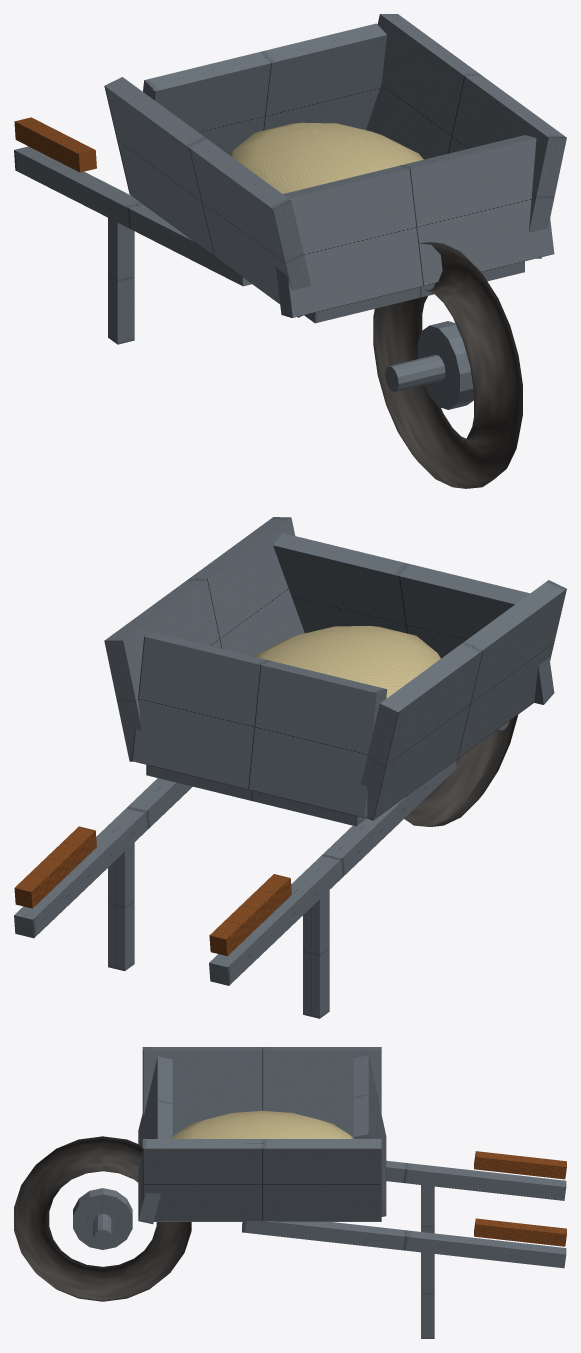
File: farm-and-working-animals-hd-wheelbarrow-39366663__29218.glb
The picture shows the model from 3 angles, top to bottom: view 1: azimuth 30°, elevation 25°; view 2: azimuth 150°, elevation 25°; view 3: azimuth 270°, elevation 25°; orthographic projection. The views are drawn at different scales.
Visible parts, largest first — view 1: barrow-tub/metal, wheelbarrow, barrow-tub/straw; view 2: barrow-tub/metal, wheelbarrow, barrow-tub/straw; view 3: barrow-tub/metal, wheelbarrow, barrow-tub/straw.
Boxes of the visible parts, bbox=[...] form: barrow-tub/metal: bbox=[104, 14, 566, 323]; wheelbarrow: bbox=[14, 117, 522, 488]; barrow-tub/straw: bbox=[230, 122, 423, 193]; barrow-tub/metal: bbox=[104, 517, 566, 826]; wheelbarrow: bbox=[14, 715, 517, 1018]; barrow-tub/straw: bbox=[253, 626, 440, 698]; barrow-tub/metal: bbox=[138, 1047, 386, 1223]; wheelbarrow: bbox=[14, 1136, 566, 1338]; barrow-tub/straw: bbox=[172, 1110, 352, 1138].
Bounding box in the file's own units: 0.7837 × 0.7493 × 1.8.
4 materials, 4 textured.
